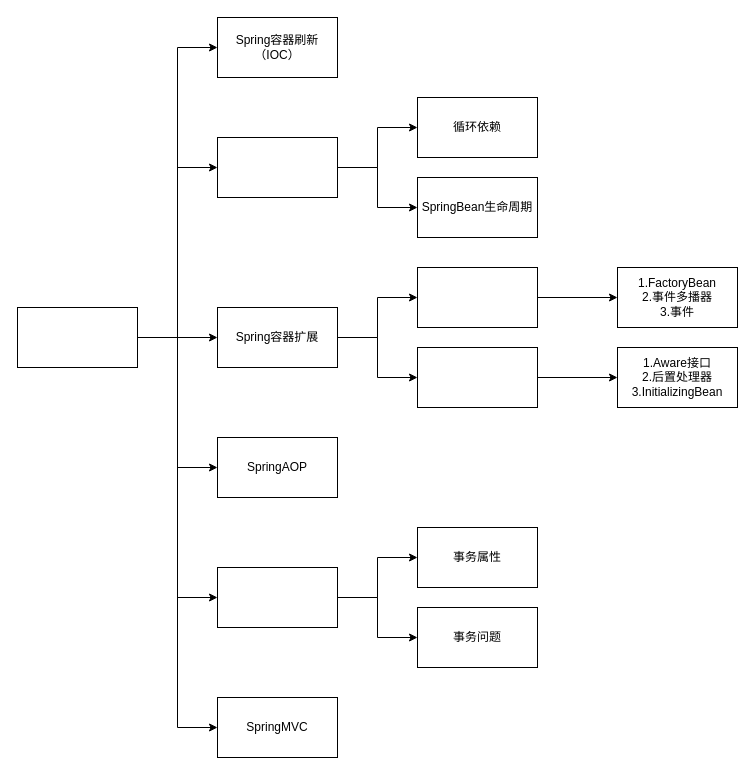
The diagram is 755 pixels wide and 775 high, and some of its shapes have lost their labels. Here are the shapes that lost their labels. From the top down, the centre of each, then its label:
pixel 277 167: Spring依赖注入（DI）
pixel 477 297: IOC阶段
pixel 77 337: Spring
pixel 477 377: DI阶段
pixel 277 597: Spring事务
